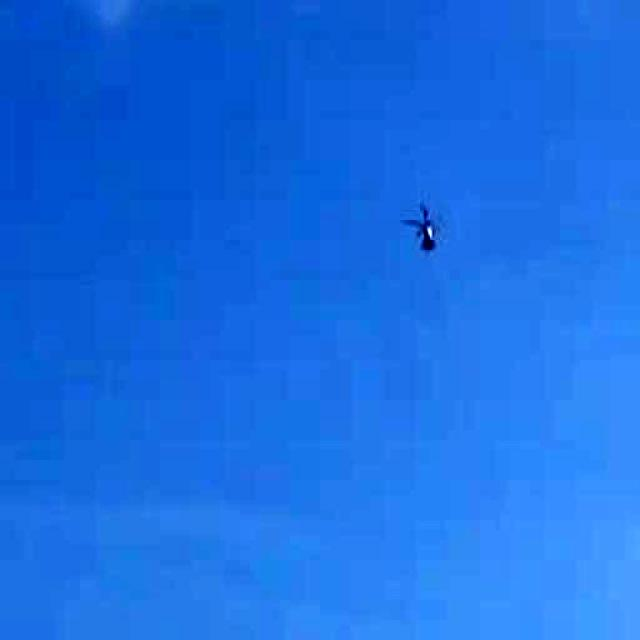drone: (386, 189, 468, 272)
